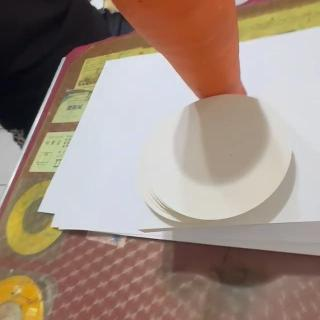carrot: (100, 0, 248, 98)
